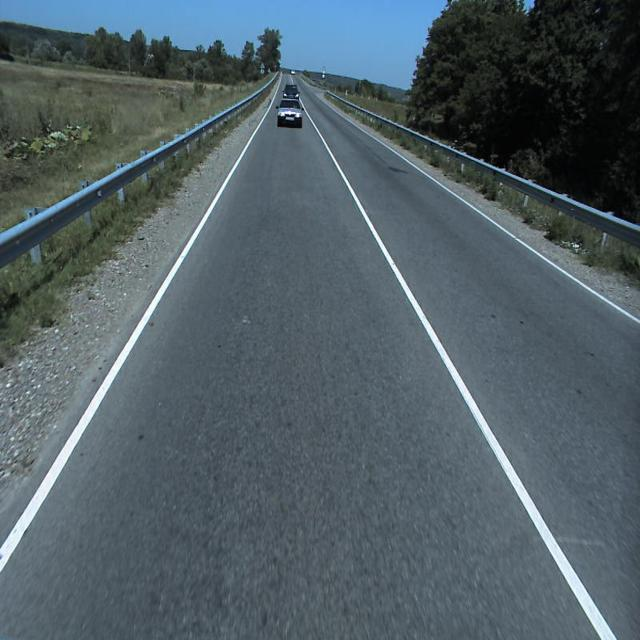road: (0, 73, 640, 639)
